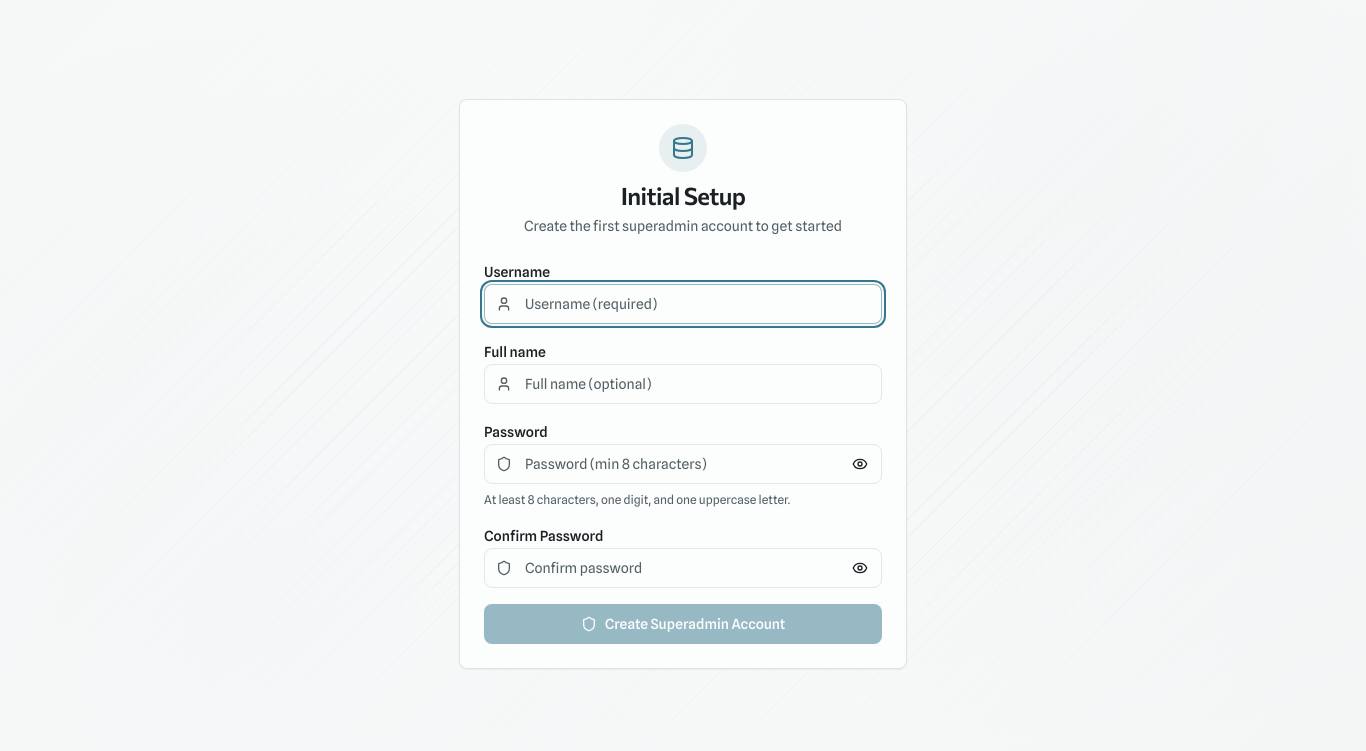
SetupPage step 2 - Configure Chat Models › shows the wizard only after step 1 completes, and does not navigate yet
This screenshot has width=1366, height=751.
Expected: the text "Configure Chat Models" is not shown
Type "adminuser" into the field with placeholder "Username (required)" at (683, 304), box [484, 284, 882, 324]
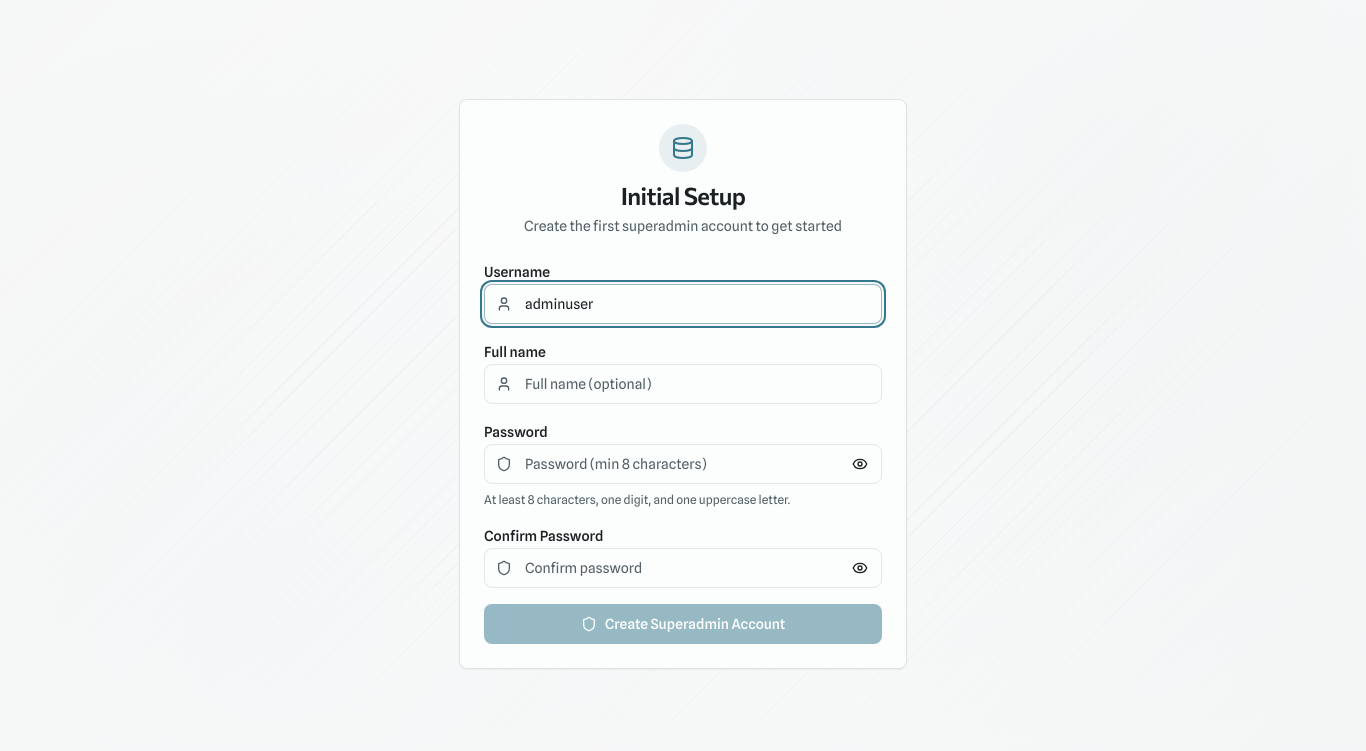
Type "securepass123" into the password field with placeholder "Password (min 8 characters)" at (683, 464), box [484, 444, 882, 484]
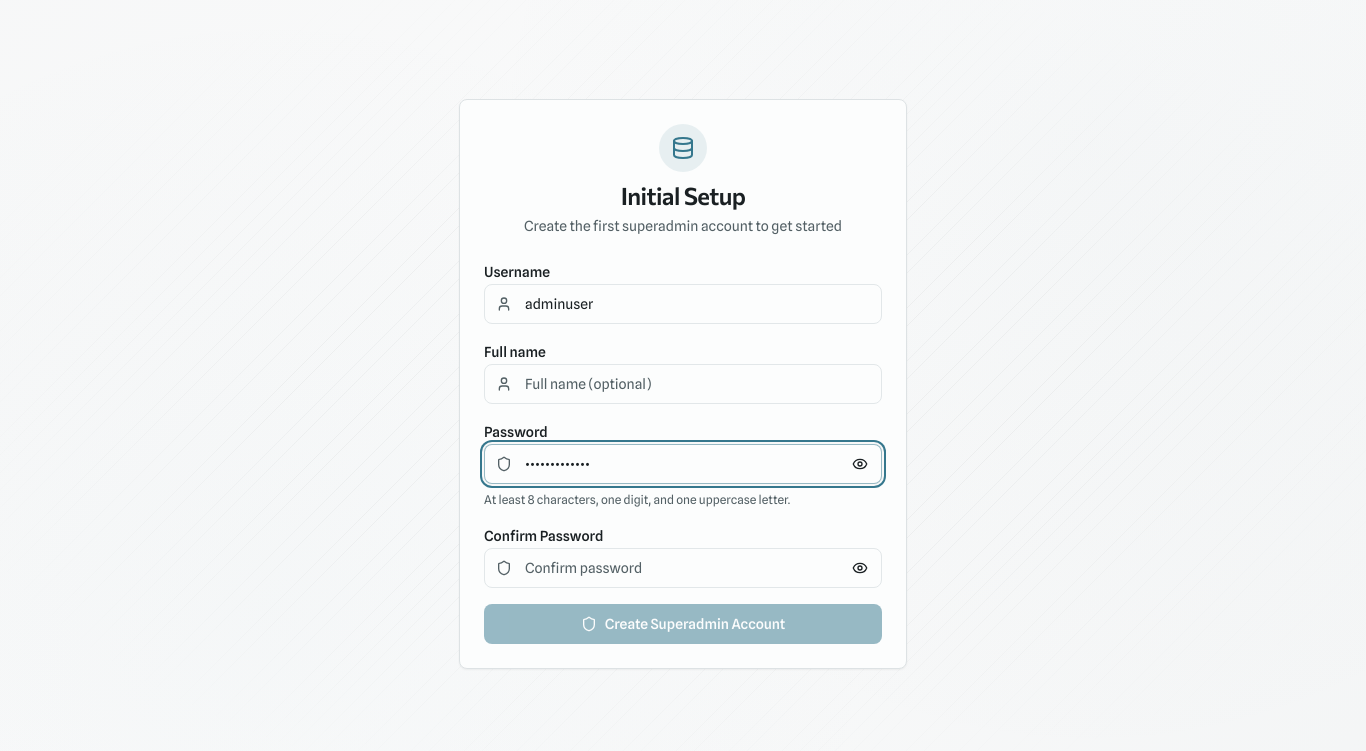
Type "securepass123" into the password field with placeholder "Confirm Password" at (683, 568), box [484, 548, 882, 588]
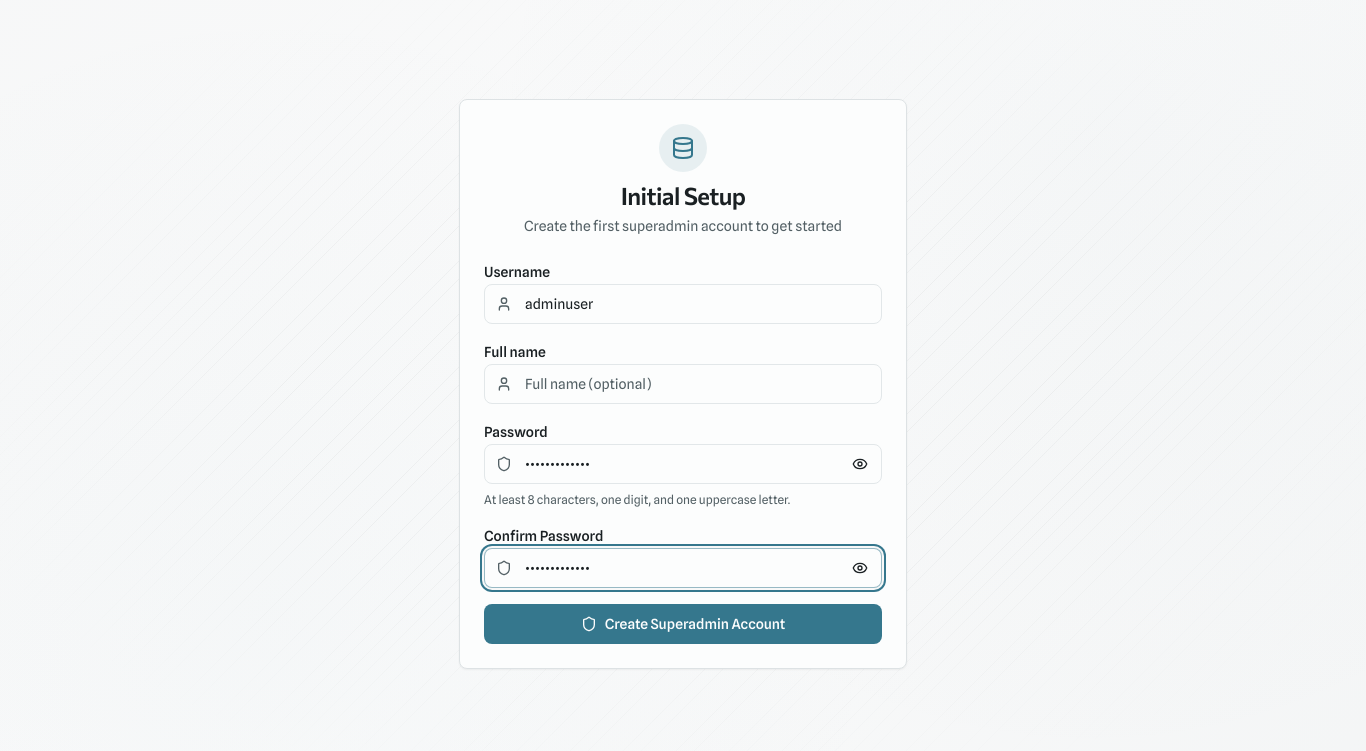
Click the button "Create Superadmin Account" at (683, 624), box [484, 604, 882, 644]
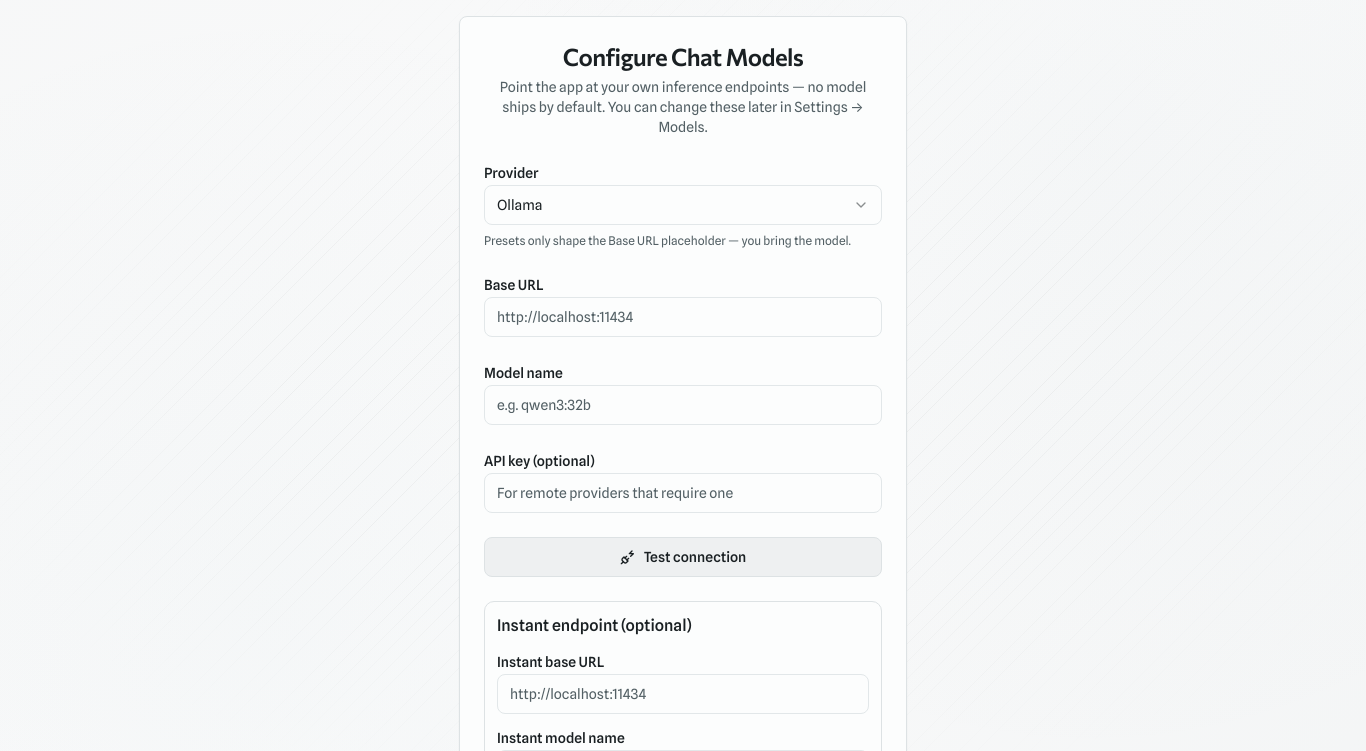
Now the heading "Configure Chat Models" is shown, box [563, 42, 803, 71]
